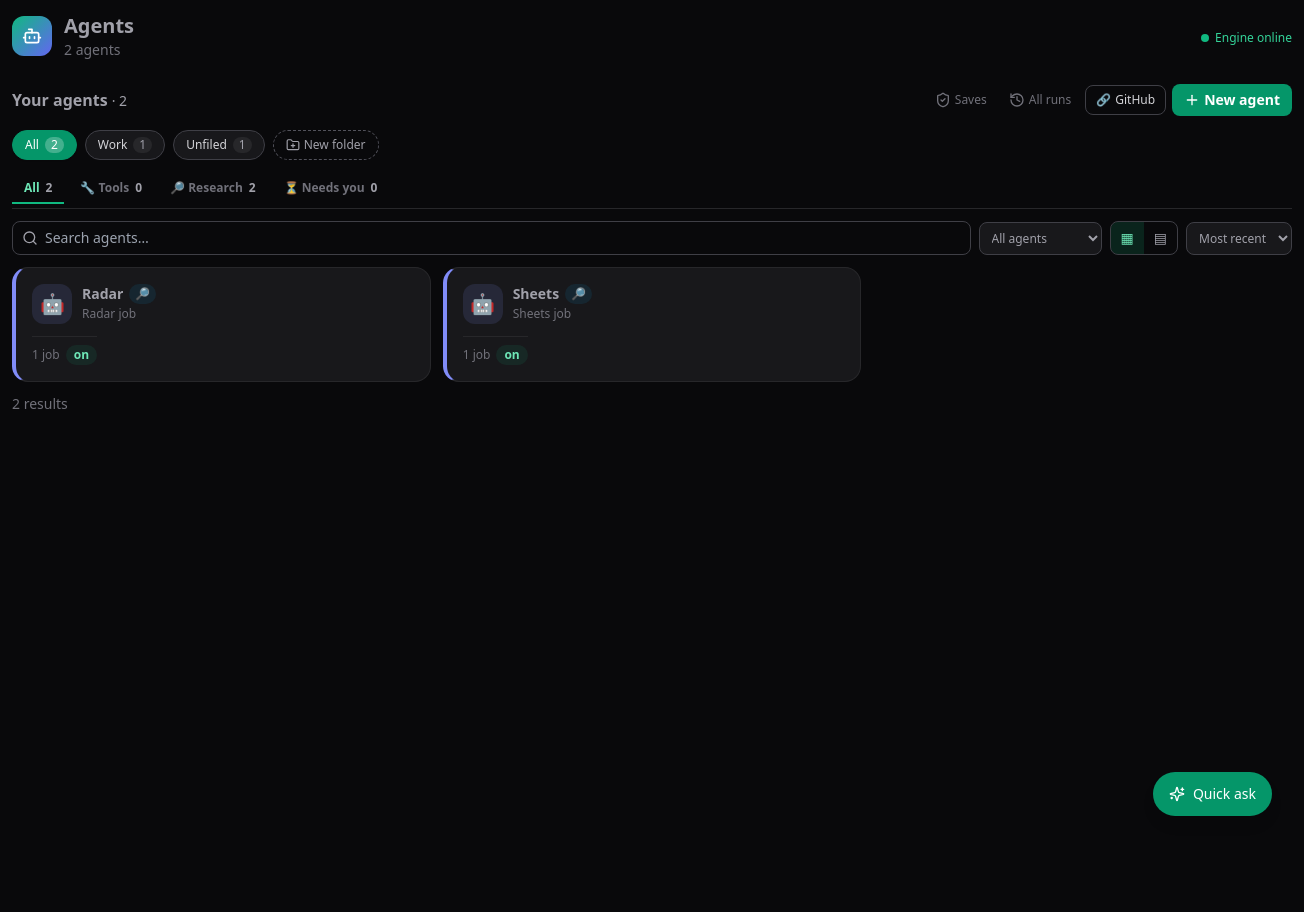
Test: the folder chips row (BEA-1380 · layout BEA-1383) › rename + delete stay reachable from the ACTIVE folder chip
The image size is (1304, 912).
expect the element with test id "folder-chips" is shown: met, box [12,130,378,160]
Click the tab "Work 1" at (125, 145), box [85,130,165,160]
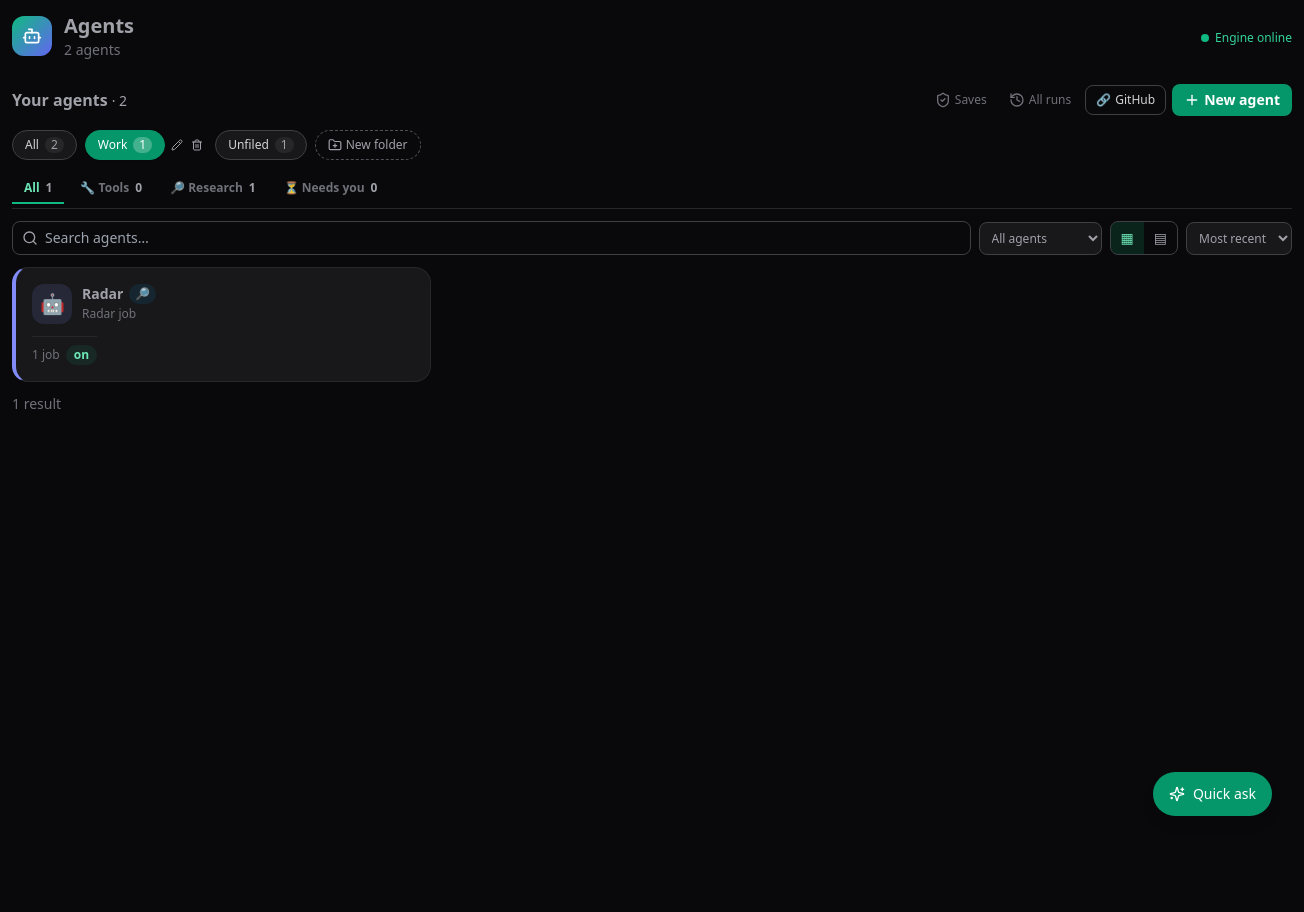
expect the button named "Rename folder Work" is shown: met, box [167,135,187,155]
expect the button named "Delete folder Work" is shown: met, box [187,135,207,155]
